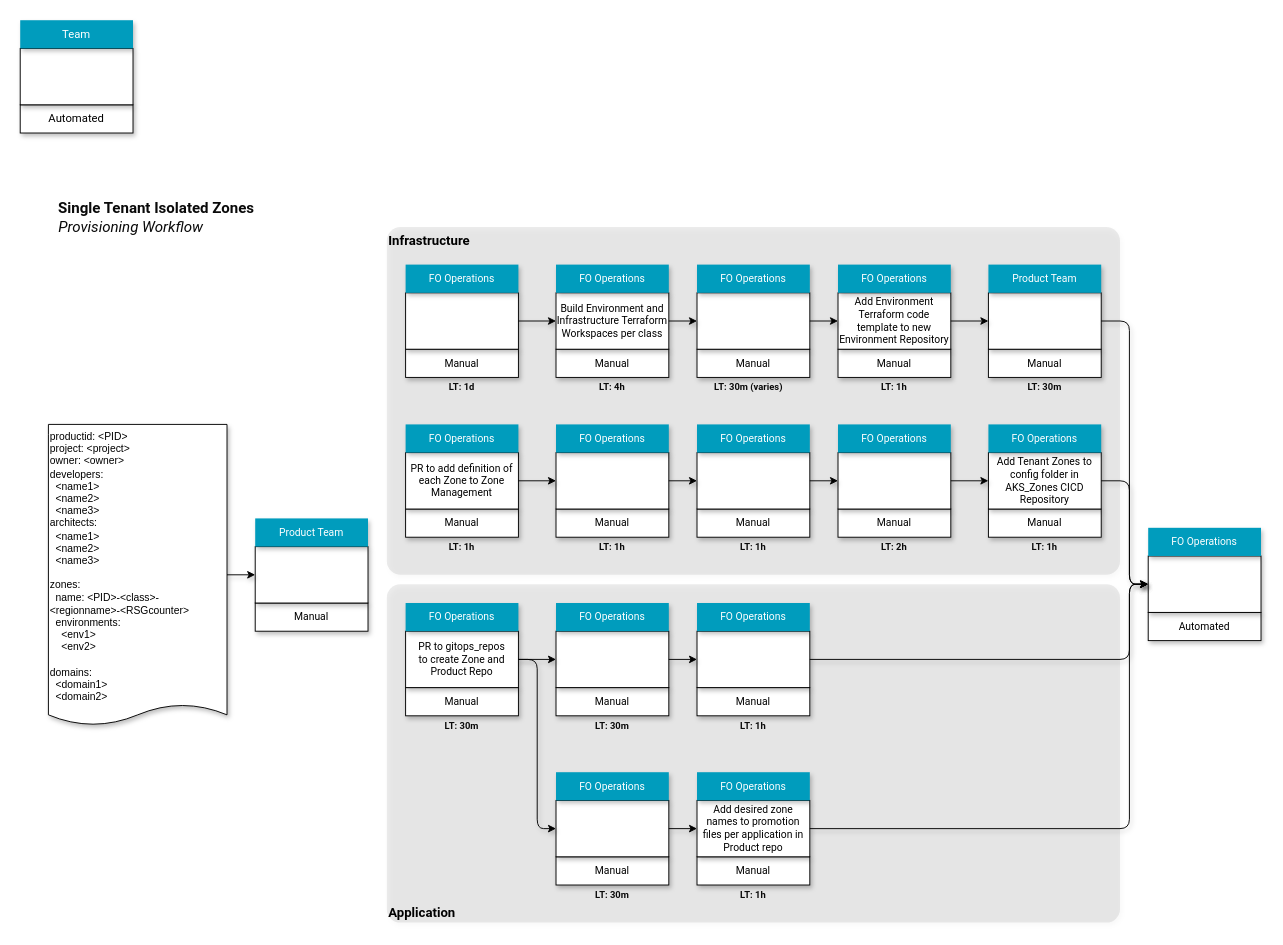
The diagram is 1283 pixels wide and 945 high, and some of its shapes have lost their labels. Each missing label, with the centre of its shape:
"Action" belongs at point 77,77.
"Add desired zone names to promotion files per application in Zone repo" belongs at point 753,660.
"Add Environment to Zone mappings to environments.yaml" belongs at point 1045,322.
"Add GitOps Product application files to new Products repo using script" belongs at point 612,829.
"Add GitOps Zone application files to new Zone repo using script" belongs at point 612,660.
"Add Zone Management file template to new Tenant AKS_Zones CICD Repository" belongs at point 894,482.
"Build Zone Deploy Baseline" belongs at point 1205,585.
"Create IMP Roles for FO Zone" belongs at point 753,482.
"Create IMP Roles for Product Infrastructure" belongs at point 753,322.
"Jira request for Environment repository per class" belongs at point 462,322.
"Onboarding Request" belongs at point 312,576.
"PR to Internal_Repos to create Tenant AKS_Zones CICD Repository" belongs at point 612,482.
